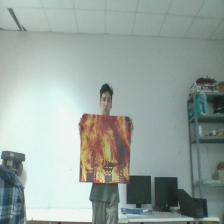fire-poster: (80, 114, 131, 184)
